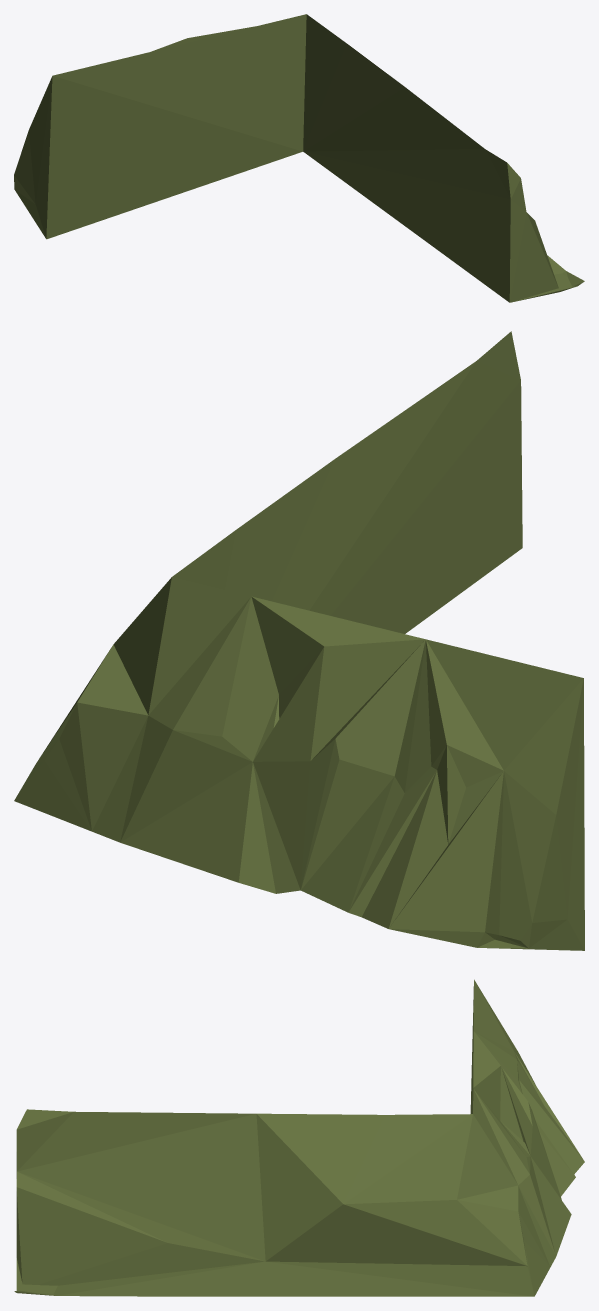
File: ground_32.fbx
3 renders of one model, top to bottom at view 1: azimuth 30°, elevation 25°; view 2: azimuth 150°, elevation 25°; view 3: azimuth 270°, elevation 25°, orthographic. The views are drawn at different scales.
Visible parts, largest first — view 1: ground_32; view 2: ground_32; view 3: ground_32.
Part boxes in pixels (x1=…): ground_32: x1=14, y1=14, x2=584, y2=302; ground_32: x1=14, y1=331, x2=584, y2=950; ground_32: x1=14, y1=979, x2=584, y2=1296.
Bounding box in the file's own units: 4.35 × 2.13 × 6.06.
